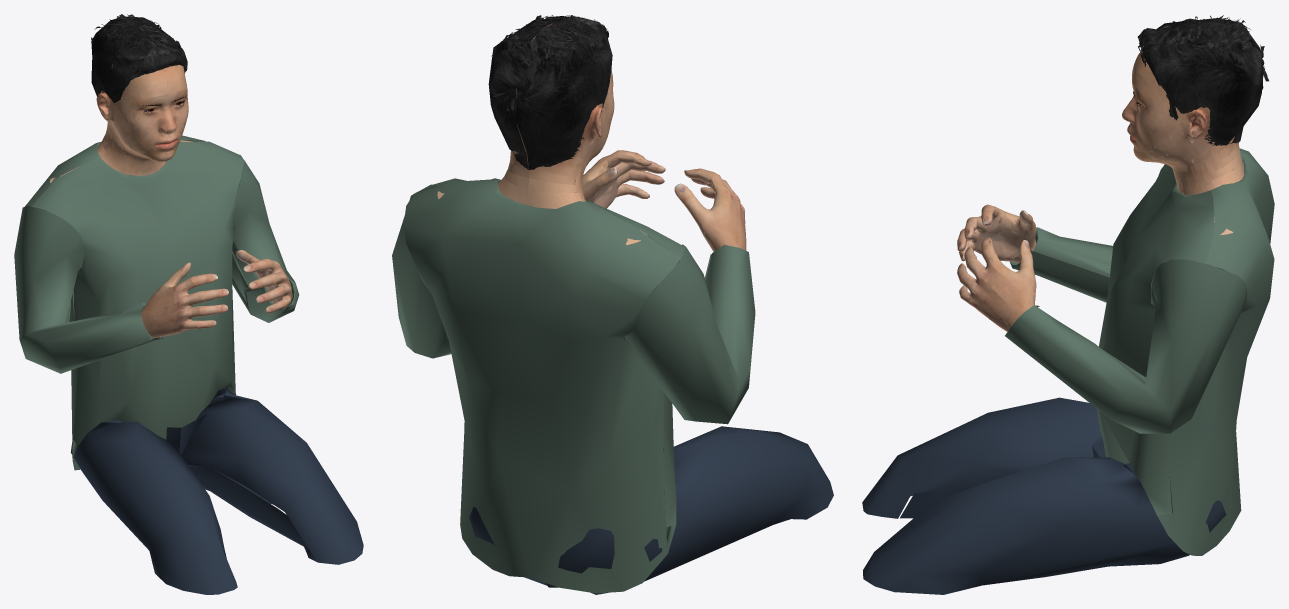
Rendered from Sam.fbx.
3 renders of one model, left to right at view 1: azimuth 30°, elevation 25°; view 2: azimuth 150°, elevation 25°; view 3: azimuth 270°, elevation 25°, orthographic. The views are drawn at different scales.
Visible parts, largest first — view 1: Sam; view 2: Sam; view 3: Sam.
Part boxes in pixels (<box>): Sam: <box>14,14,363,594</box>; Sam: <box>392,15,833,594</box>; Sam: <box>862,15,1274,594</box>.
Size of the model in its own units: 0.5509 by 0.8901 by 0.641.
